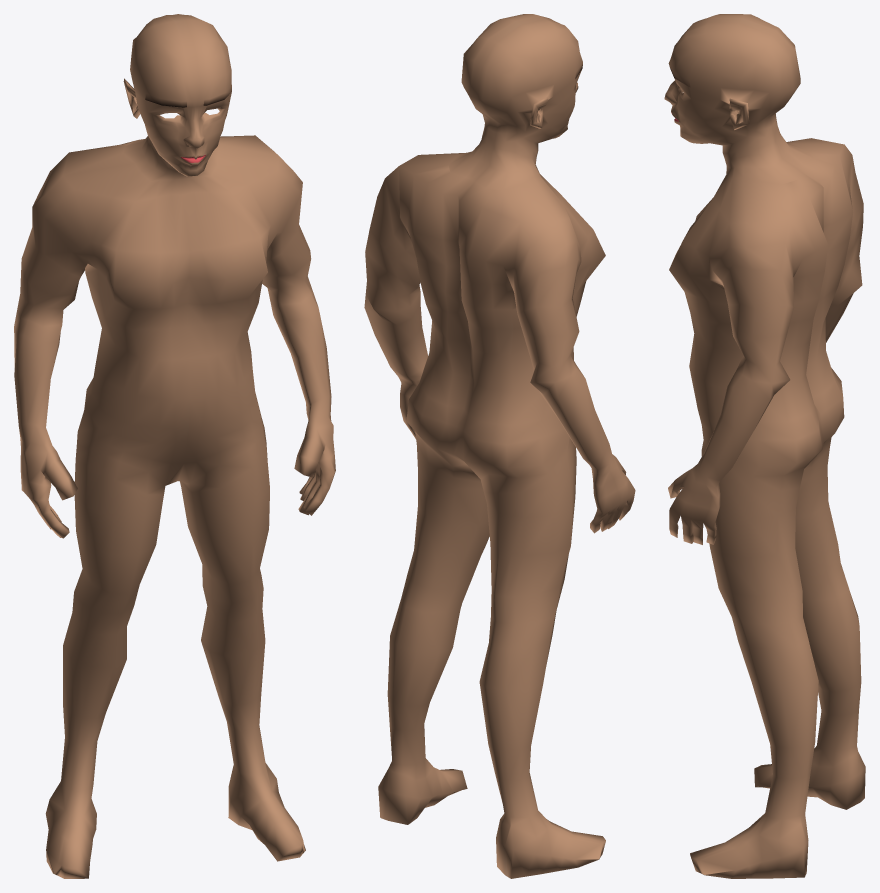
Rendered from boneco12.glb.
3 views of the same model, side by side, from view 1: azimuth 30°, elevation 25°; view 2: azimuth 150°, elevation 25°; view 3: azimuth 270°, elevation 25° (orthographic). The views are drawn at different scales.
Parts seen in each view (by area): view 1: Plane.013; view 2: Plane.013; view 3: Plane.013.
Part boxes in pixels (x1,y1,x2,y2): Plane.013: (14,14,335,878); Plane.013: (364,14,635,878); Plane.013: (664,14,865,878).
Size of the model in its own units: 1.21 by 3.47 by 0.7855.
